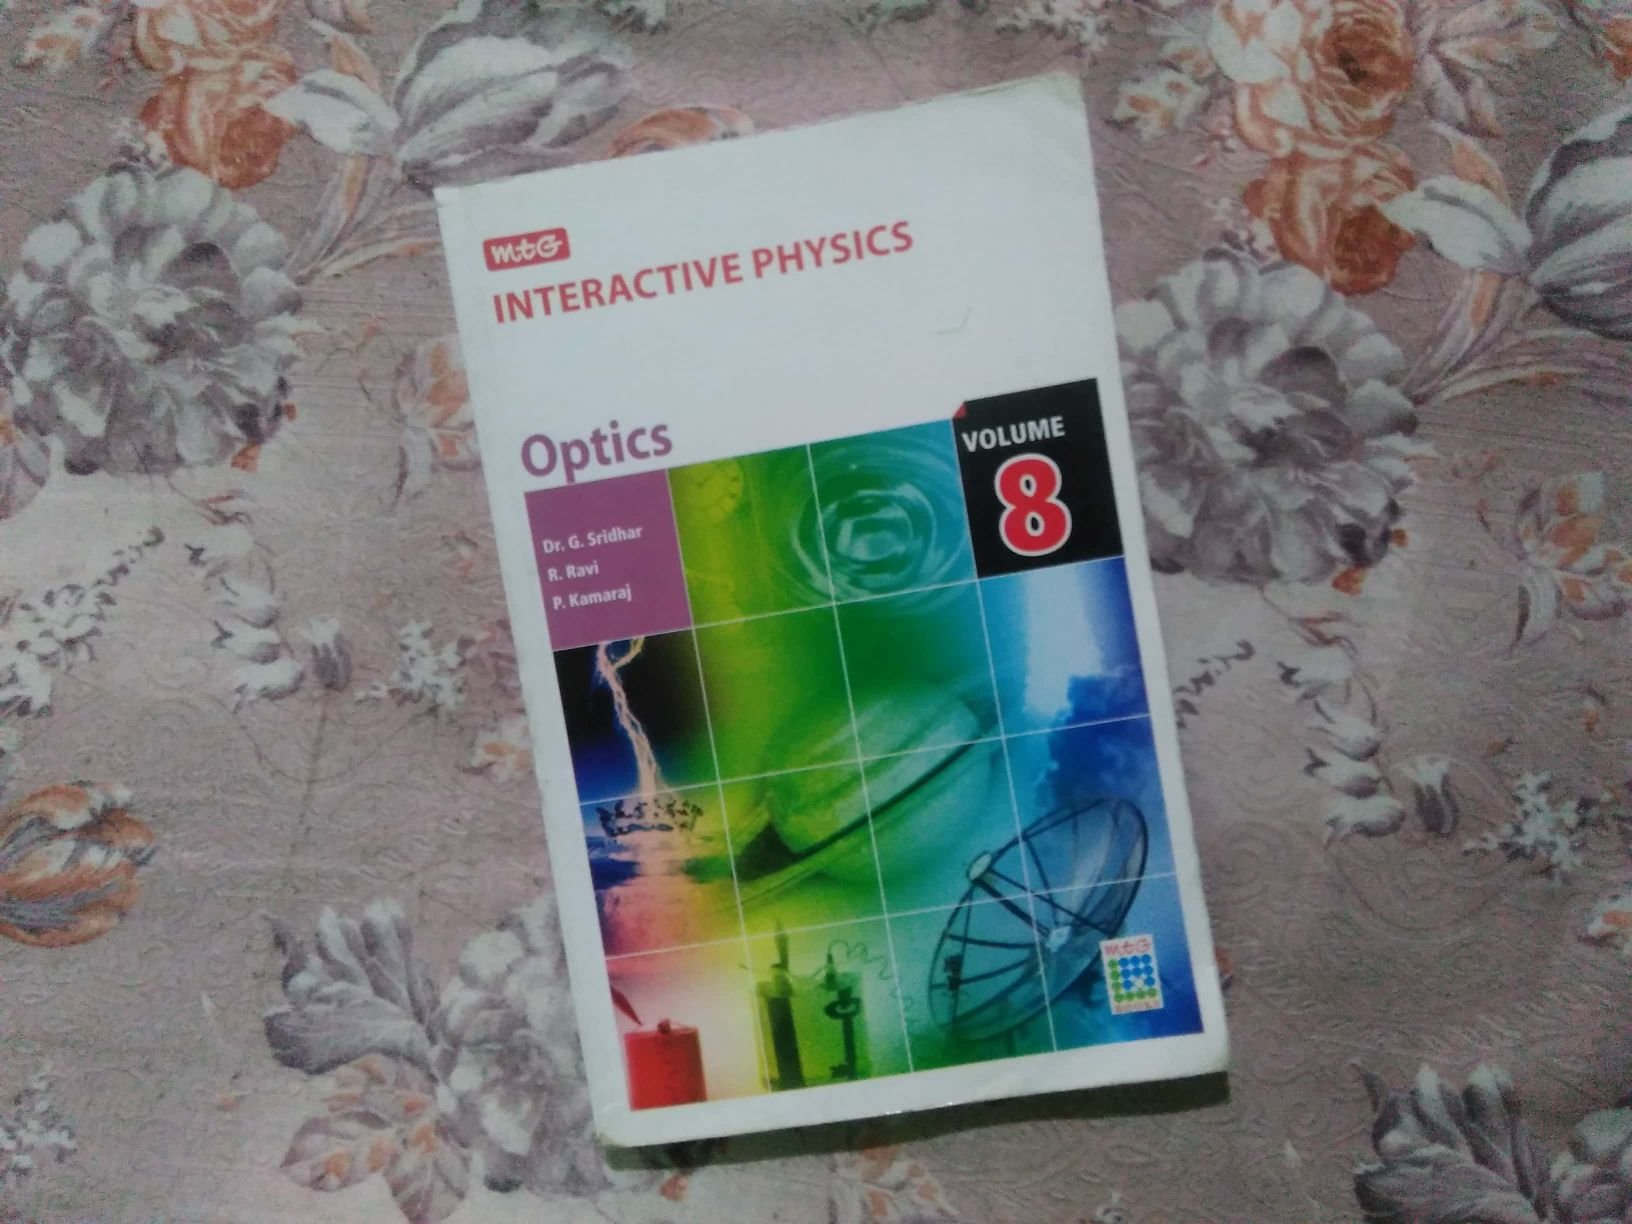optics: (386, 111, 1360, 1146)
